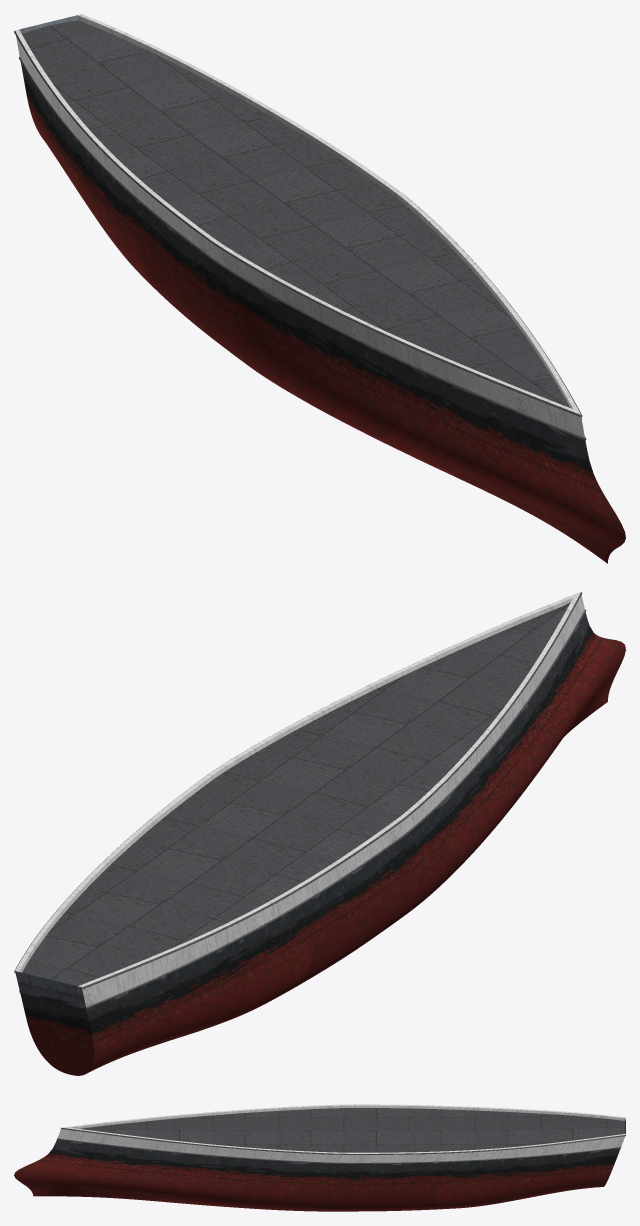
The model's file is ironclad_hull.glb.
The picture shows the model from 3 angles, top to bottom: view 1: azimuth 30°, elevation 25°; view 2: azimuth 150°, elevation 25°; view 3: azimuth 270°, elevation 25°; orthographic projection. The views are drawn at different scales.
Parts seen in each view (by area): view 1: deck, hull, team, trim; view 2: deck, hull, team, trim; view 3: hull, deck, team, trim.
Boxes of the visible parts, left/top/right/bottom form: deck: left=22, top=20, right=581, bottom=418; hull: left=19, top=15, right=625, bottom=563; team: left=15, top=14, right=584, bottom=438; trim: left=14, top=31, right=586, bottom=440; deck: left=22, top=594, right=581, bottom=986; hull: left=15, top=612, right=625, bottom=1075; team: left=15, top=592, right=584, bottom=1007; trim: left=14, top=592, right=586, bottom=1008; hull: left=14, top=1119, right=625, bottom=1211; deck: left=60, top=1108, right=624, bottom=1152; team: left=57, top=1104, right=625, bottom=1162; trim: left=57, top=1127, right=625, bottom=1163.
Size of the model in its own units: 3.61 by 2.43 by 18.65.
Materials: 4 (4 with a texture image).
